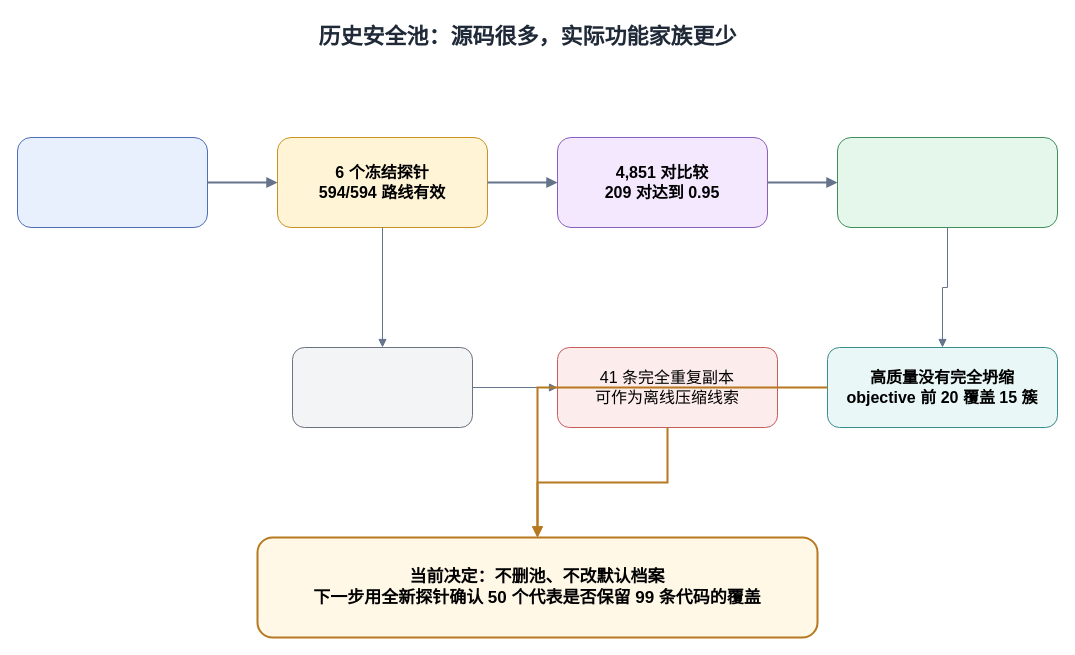
This 1075x655 diagram has some shape labels left out. Each missing label, with the centre of its shape:
"50 个功能簇 38 个单例，最大簇 15" goes at pixel 947 182.
"99 条安全代码 99 个不同 AST" goes at pixel 112 182.
"完全路线签名 58 种" goes at pixel 382 387.
